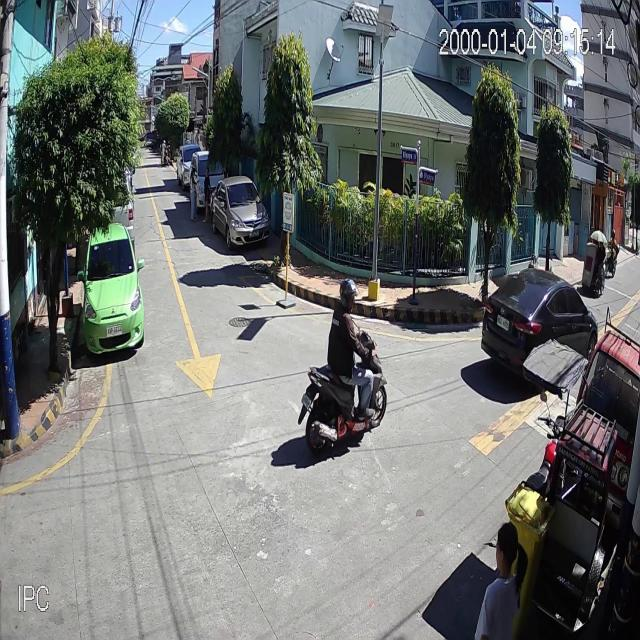standing: (188, 166, 201, 221), (202, 166, 213, 223), (161, 138, 166, 164)
walking: (474, 520, 530, 640)
